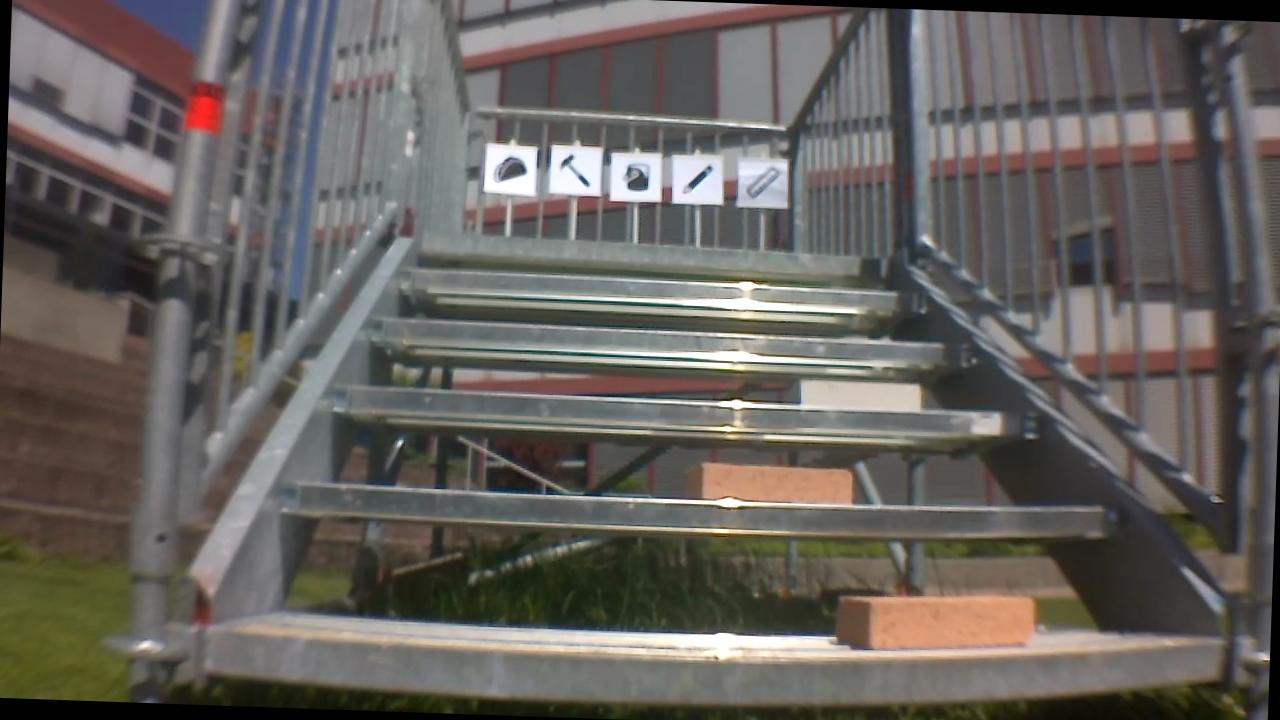brick: (829, 584, 1039, 653), (694, 463, 855, 501), (800, 375, 924, 409)
edge: (200, 601, 1231, 720), (274, 471, 1115, 542), (324, 385, 1049, 441), (359, 321, 980, 368), (395, 270, 929, 316), (411, 237, 897, 272)
steps: (169, 225, 1280, 716)
